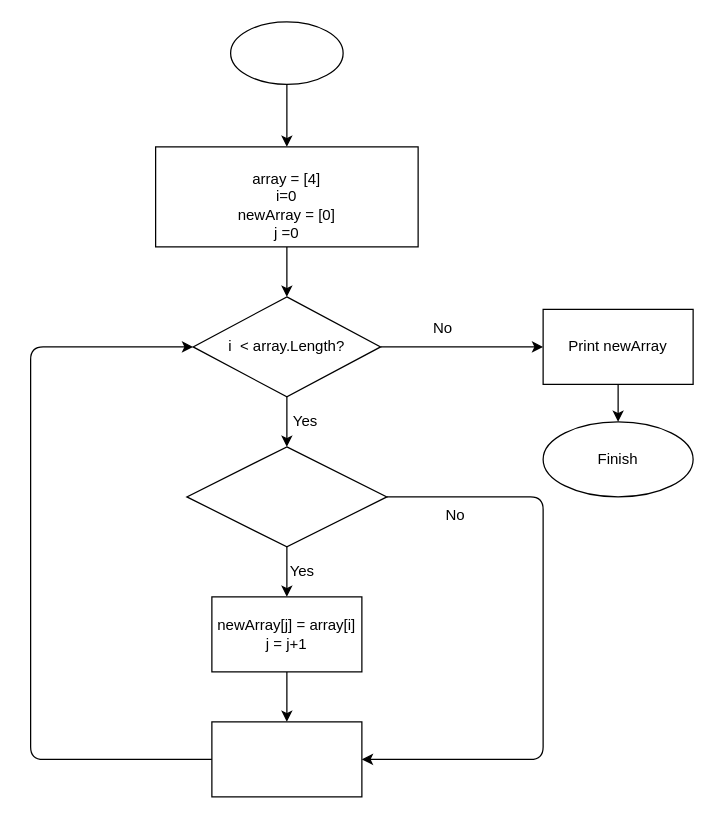
This 715x819 diagram has some shape labels left out. Each missing label, with the box of its shape:
array[i].Length <= 3?: (186, 446, 387, 547)
i = i+1: (211, 721, 362, 797)
Start: (229, 21, 343, 84)
